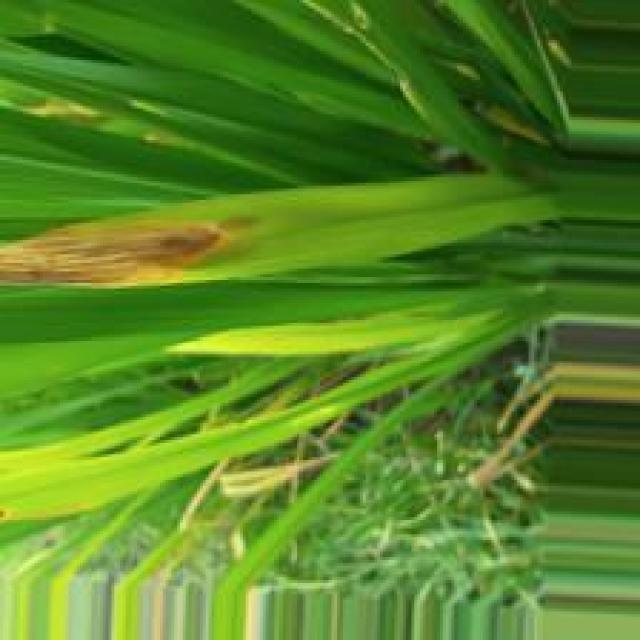Rice False Smut: (1, 217, 231, 285)
